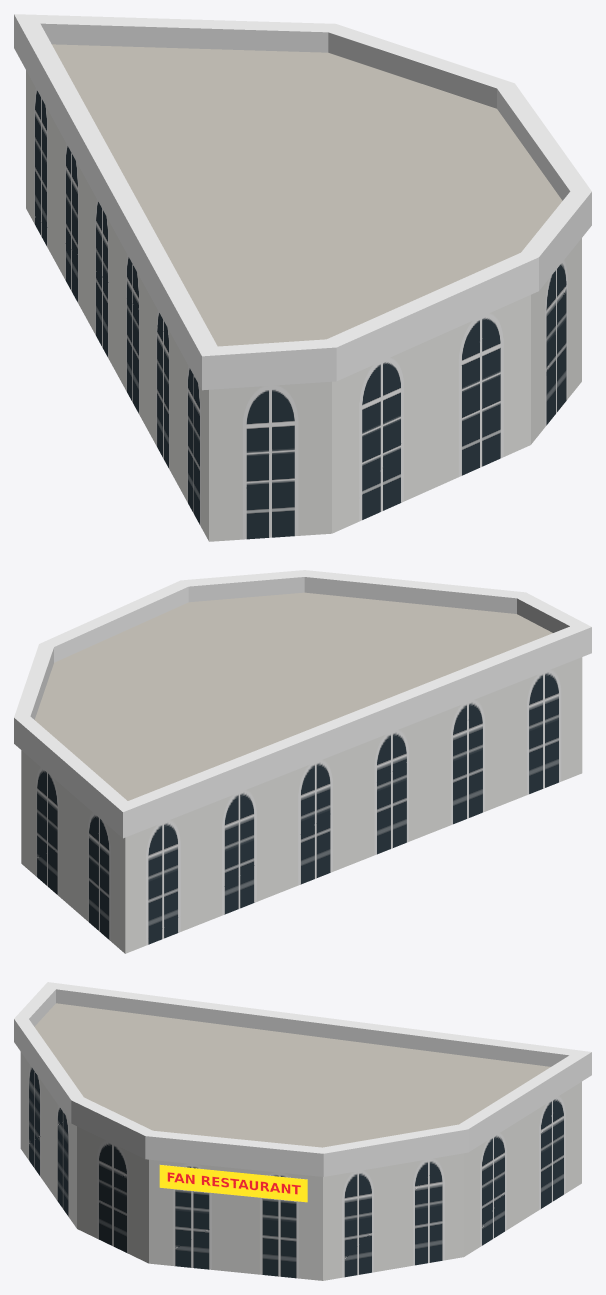
File: fanrest.glb
3 views of the same model, one above another, from view 1: azimuth 30°, elevation 25°; view 2: azimuth 150°, elevation 25°; view 3: azimuth 270°, elevation 25° (orthographic). The views are drawn at different scales.
Visible parts, largest first — view 1: fanrest_lod0; view 2: fanrest_lod0; view 3: fanrest_lod0.
Part boxes in pixels (x1,y1,x2,y2): fanrest_lod0: (14,14,591,541); fanrest_lod0: (14,570,591,953); fanrest_lod0: (14,982,591,1280).
Size of what is drawn, in the model's own units: 15.87 by 5.6 by 22.56.
4 materials, 2 textured.
